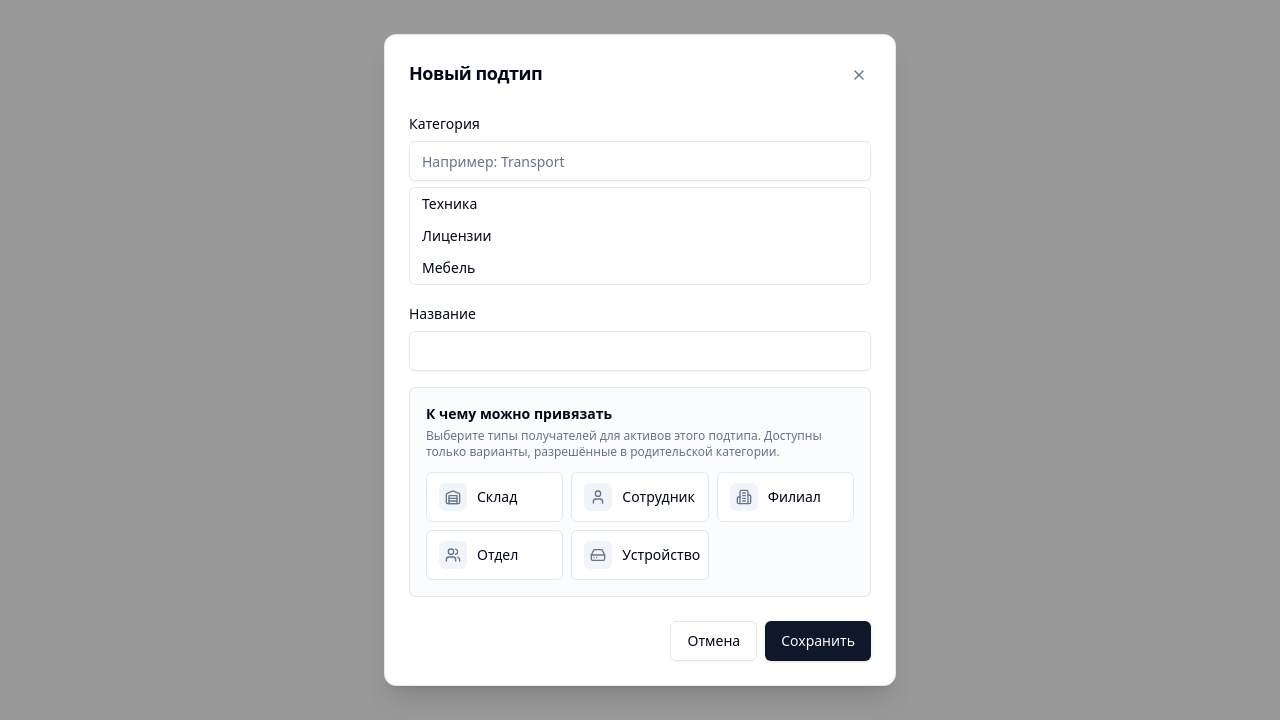
Scenario: SubtypeFormDialog › renders the attachableTo fieldset constrained to the parent category for License
The image size is (1280, 720).
In the field labelled "Категория": [640, 161] box [409,141,871,181], type "Лицензии"
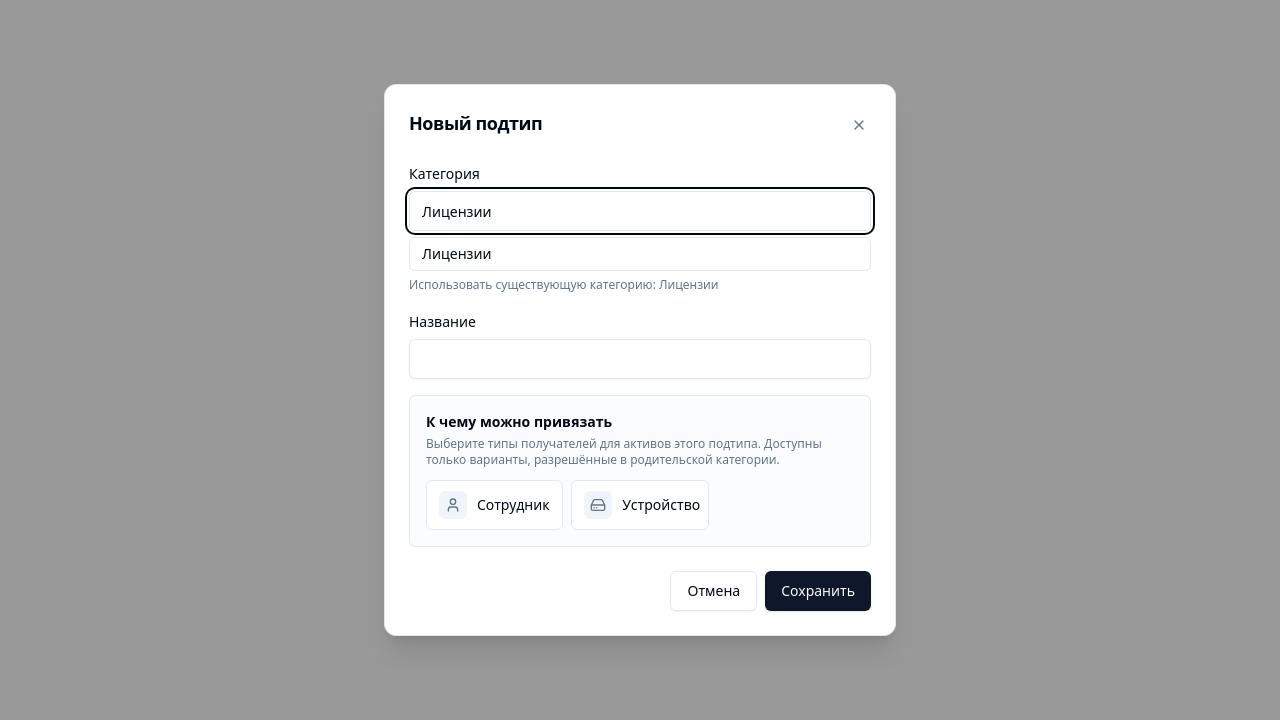
Result: the text labelled "Филиал" is gone
Result: the text labelled "Склад" is gone
Result: the text labelled "Отдел" is gone
